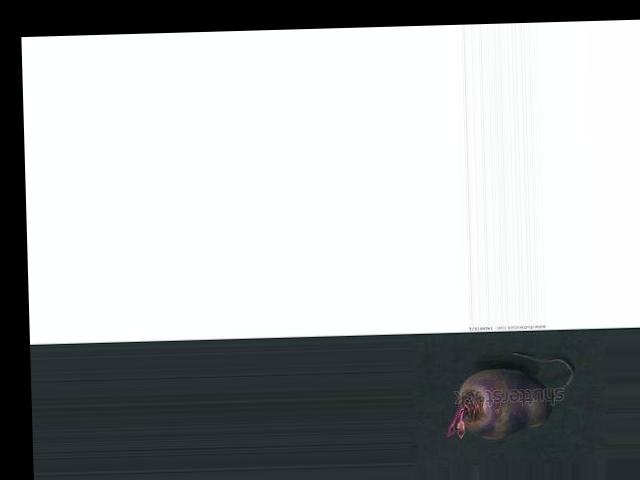beet: (440, 351, 575, 440)
